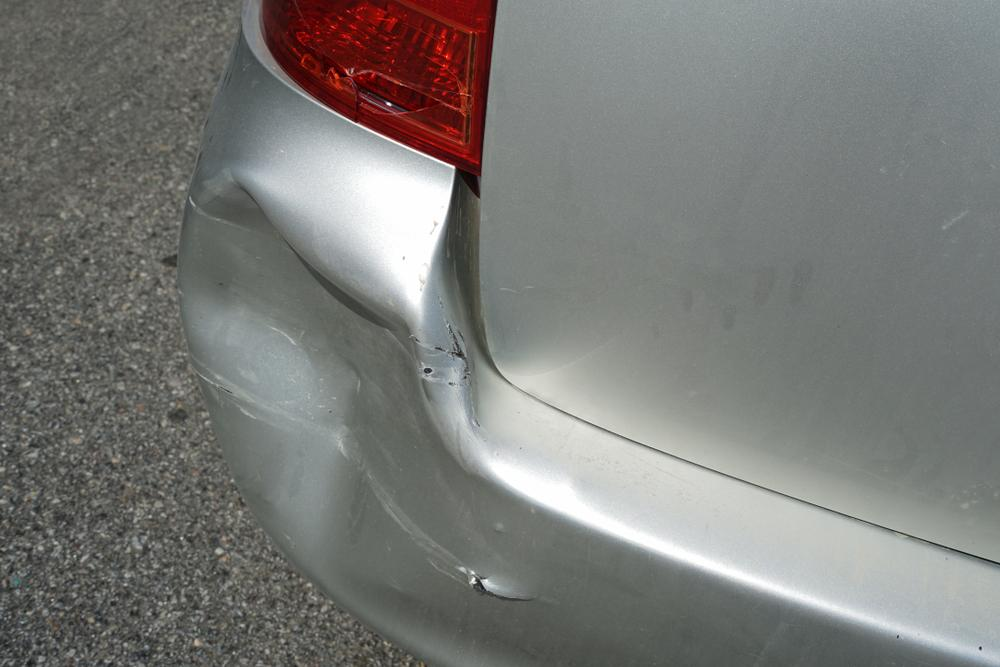dent: (180, 177, 421, 586)
lamp broken: (260, 0, 495, 176)
scratch: (380, 496, 476, 586), (418, 306, 470, 394)
